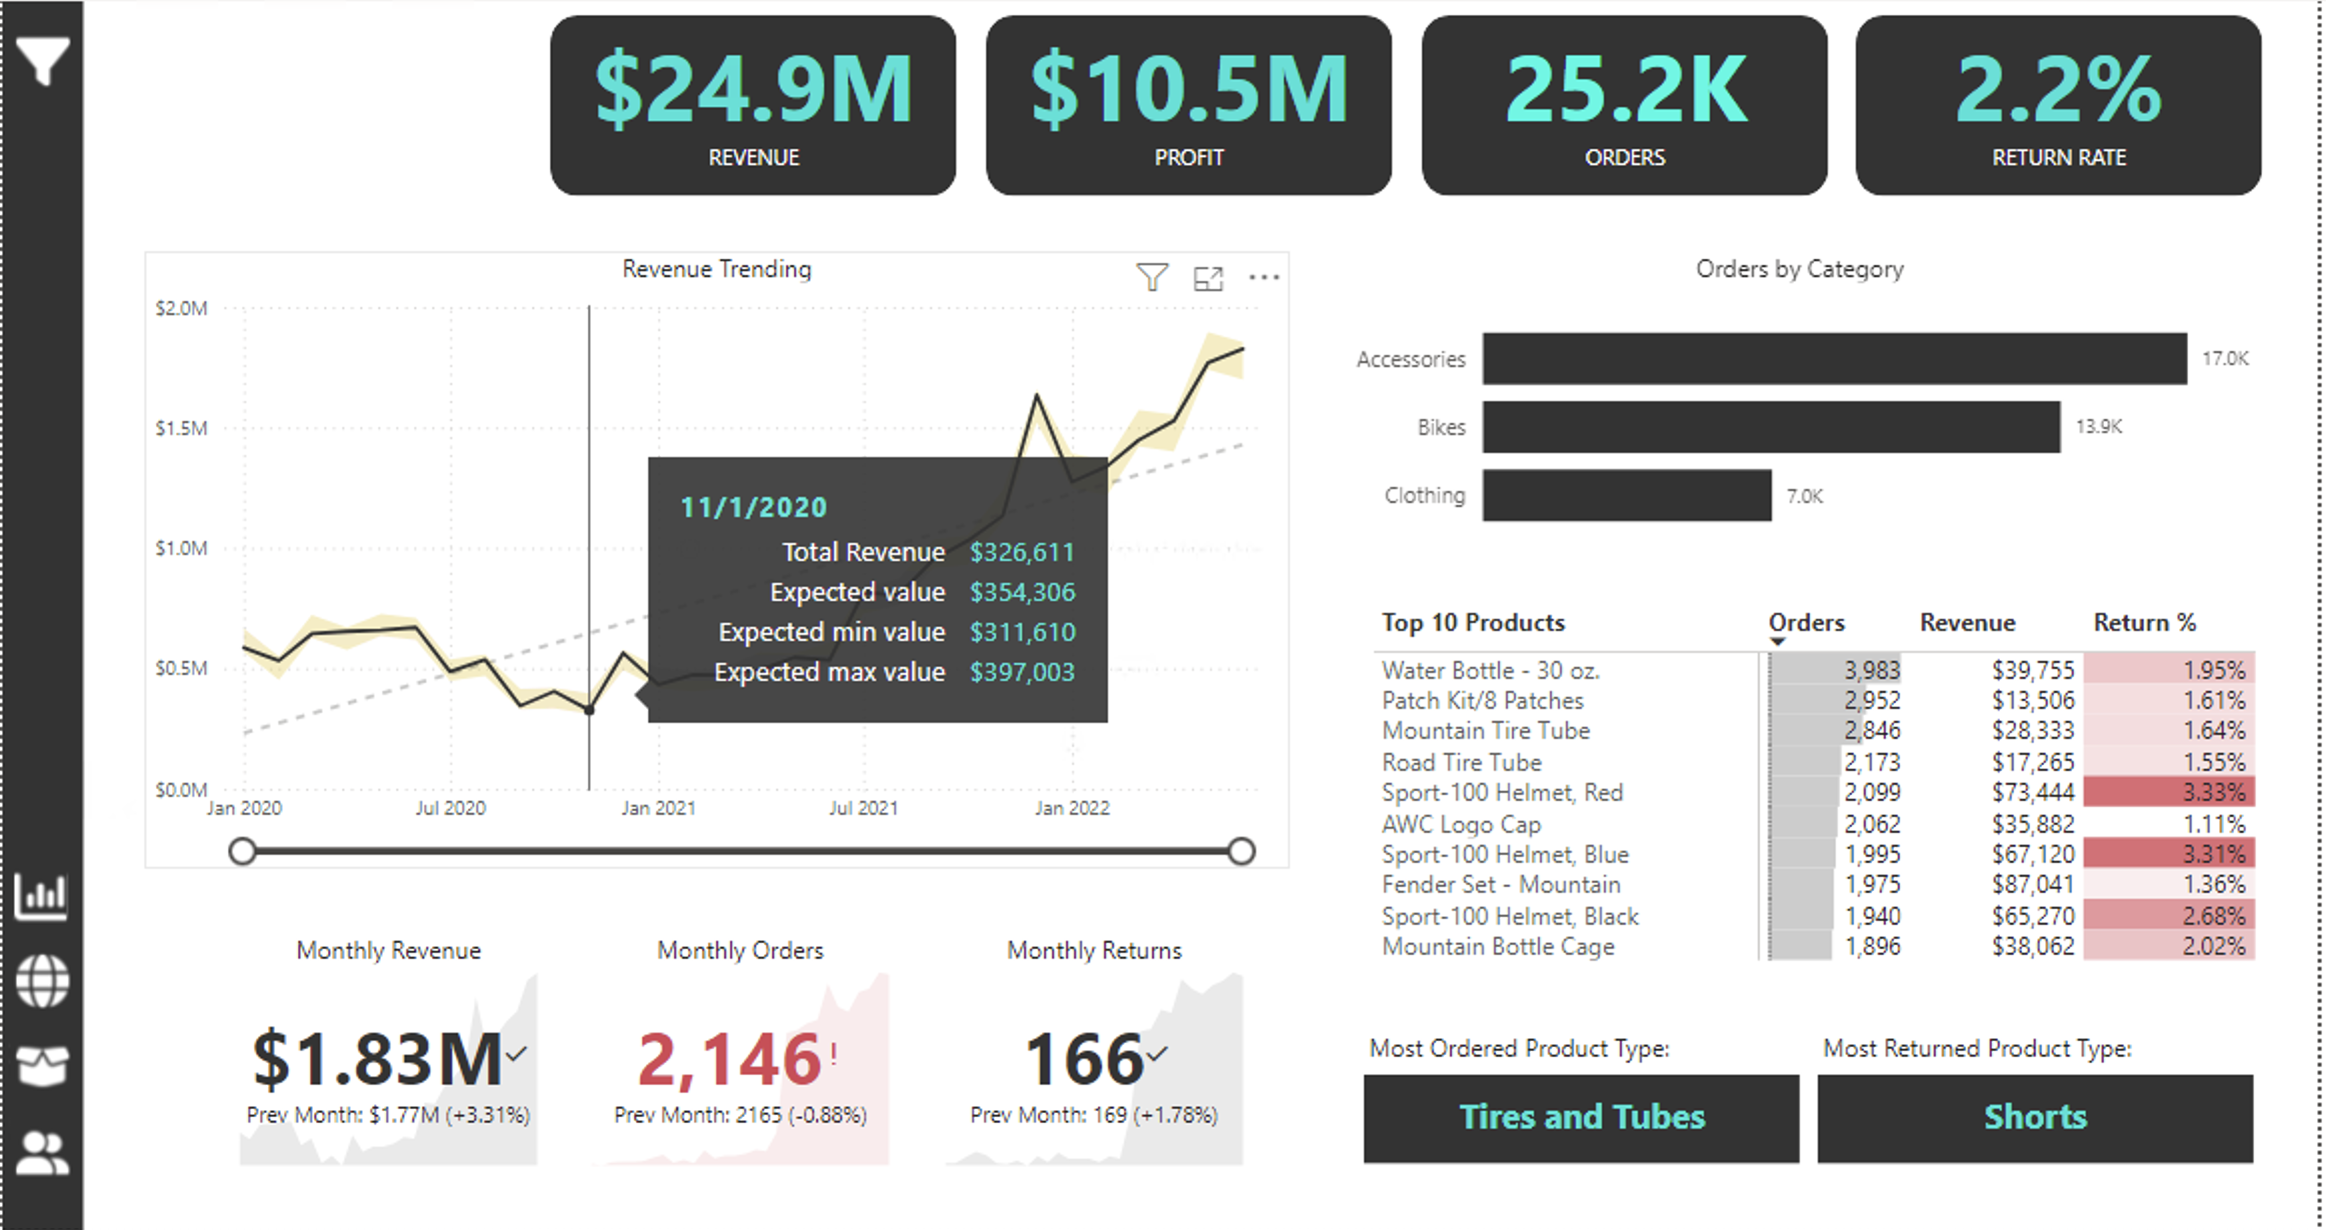

The dashboard page shown, as its layout file describes it:
{"tool":"powerbi","page":{"name":"Exec Dashboard","canvas":[1280,720],"ordinal":0},"visuals":[{"type":"card","fields":{"Values":["Measure Table.Total Revenue"]},"box":[288.1,17.8,256.2,150],"z":0,"group":"g2"},{"type":"shape","box":[303.1,47.8,225,100],"z":0,"group":"g1"},{"type":"actionButton","box":[2.5,516.7,45.6,37.8],"z":0,"group":"g3"},{"type":"card","fields":{"Values":["Measure Table.Total Profit"]},"box":[528.9,17.8,256.2,150],"z":1000,"group":"g2"},{"type":"shape","box":[543.9,47.8,225,100],"z":1000,"group":"g1"},{"type":"actionButton","box":[3.3,563.4,45.6,37.8],"z":1000,"group":"g3"},{"type":"card","fields":{"Values":["Measure Table.Total Orders"]},"box":[769.8,17.8,256.2,150],"z":2000,"group":"g2"},{"type":"group","id":"g1","title":"KPI Backgrounds","box":[303.1,47.8,947.5,100],"z":2000},{"type":"shape","box":[784.8,47.8,225,100],"z":2000,"group":"g1"},{"type":"actionButton","box":[3.3,611.1,45.6,37.8],"z":2000,"group":"g3"},{"type":"shape","title":"Left Nav Background","box":[0,0,45,720],"z":3000},{"type":"card","fields":{"Values":["Measure Table.Return Rate"]},"box":[1010.6,17.8,256.2,150],"z":3000,"group":"g2"},{"type":"shape","box":[1025.6,47.8,225,100],"z":3000,"group":"g1"},{"type":"actionButton","box":[3.3,657.8,45.6,37.8],"z":3000,"group":"g3"},{"type":"group","id":"g2","title":"KPI Values","box":[288.1,17.8,978.8,150],"z":4000},{"type":"lineChart","title":"Revenue Trending","fields":{"Y":["Measure Table.Total Revenue"],"Category":["Calendar Lookup.Start of Month"]},"box":[78.9,177.7,633.8,342.5],"z":5000},{"type":"kpi","title":"Monthly Revenue","fields":{"Indicator":["Measure Table.Total Revenue"],"TrendLine":["Calendar Lookup.Start of Month"],"Goal":["Measure Table.Previous Month Revenue"]},"box":[126.2,555,175,133.8],"z":6000},{"type":"kpi","title":"Monthly Orders","fields":{"TrendLine":["Calendar Lookup.Start of Month"],"Indicator":["Measure Table.Total Orders"],"Goal":["Measure Table.Previous Month Orders"]},"box":[321.2,555,175,133.8],"z":7000},{"type":"kpi","title":"Monthly Returns","fields":{"TrendLine":["Calendar Lookup.Start of Month"],"Indicator":["Measure Table.Total Returns"],"Goal":["Measure Table.Previous Month Returns"]},"box":[516.2,555,175,133.8],"z":8000},{"type":"clusteredBarChart","title":"Orders by Category","fields":{"Category":["Product Categories Lookup.CategoryName"],"Y":["Measure Table.Total Orders"]},"box":[738.9,177.7,511.2,171.2],"z":9000},{"type":"pivotTable","fields":{"Rows":["Product Lookup.ProductName"],"Values":["Measure Table.Total Orders","Measure Table.Total Revenue","Measure Table.Return Rate"]},"box":[753.7,369.2,511.1,228.4],"z":10000},{"type":"card","fields":{"Values":["Min(Product Subcategories Lookup.SubcategoryName)"]},"box":[753.7,634.2,241.4,48.5],"z":11000},{"type":"textbox","box":[751.3,604.6,198.8,35.5],"z":12000},{"type":"card","fields":{"Values":["Min(Product Subcategories Lookup.SubcategoryName)"]},"box":[1004.1,634.2,241.4,48.5],"z":13000},{"type":"textbox","box":[1002.2,605.2,198.8,35.5],"z":14000},{"type":"actionButton","box":[3.3,5.6,35.6,35.6],"z":15000},{"type":"group","id":"g3","title":"Navigation Buttons","box":[2.5,516.7,46.4,178.9],"z":16000},{"type":"actionButton","box":[3.4,53.1,38.4,39.6],"z":17000}]}

Visuals, with their boxes on the page's 1280x720 design canvas (x1, y1, x2, y2). These are canvas units, not pixel positions in the 2326x1230 screenshot, which may show the page scaled, cropped or inside an application window:
card - Measure Table.Total Revenue: crop(288, 18, 544, 168)
shape: crop(303, 48, 528, 148)
actionButton: crop(2, 517, 48, 554)
card - Measure Table.Total Profit: crop(529, 18, 785, 168)
shape: crop(544, 48, 769, 148)
actionButton: crop(3, 563, 49, 601)
card - Measure Table.Total Orders: crop(770, 18, 1026, 168)
"KPI Backgrounds" group: crop(303, 48, 1251, 148)
shape: crop(785, 48, 1010, 148)
actionButton: crop(3, 611, 49, 649)
"Left Nav Background" shape: crop(0, 0, 45, 720)
card - Measure Table.Return Rate: crop(1011, 18, 1267, 168)
shape: crop(1026, 48, 1251, 148)
actionButton: crop(3, 658, 49, 696)
"KPI Values" group: crop(288, 18, 1267, 168)
"Revenue Trending" lineChart: crop(79, 178, 713, 520)
"Monthly Revenue" kpi: crop(126, 555, 301, 689)
"Monthly Orders" kpi: crop(321, 555, 496, 689)
"Monthly Returns" kpi: crop(516, 555, 691, 689)
"Orders by Category" clusteredBarChart: crop(739, 178, 1250, 349)
pivotTable - Product Lookup.ProductName x Measure Table.Total Orders: crop(754, 369, 1265, 598)
card - Min(Product Subcategories Lookup.SubcategoryName): crop(754, 634, 995, 683)
textbox: crop(751, 605, 950, 640)
card - Min(Product Subcategories Lookup.SubcategoryName): crop(1004, 634, 1246, 683)
textbox: crop(1002, 605, 1201, 641)
actionButton: crop(3, 6, 39, 41)
"Navigation Buttons" group: crop(2, 517, 49, 696)
actionButton: crop(3, 53, 42, 93)
